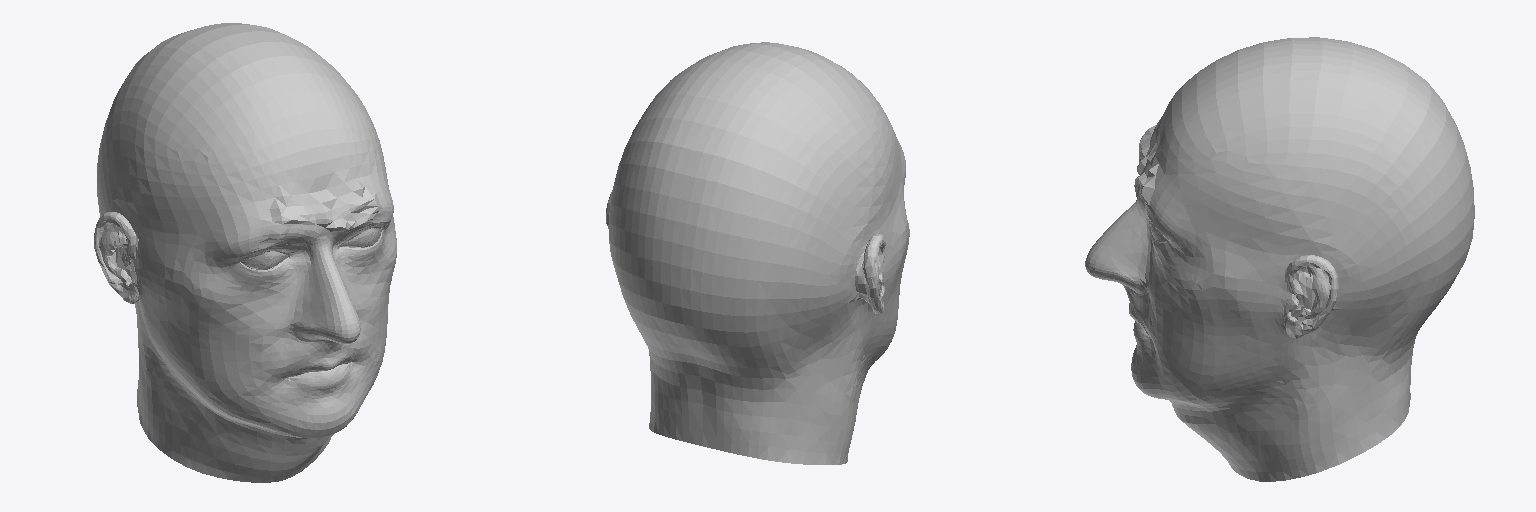
The model's file is MaleFaced6.obj.
The picture shows the model from 3 angles: view 1: azimuth 30°, elevation 25°; view 2: azimuth 150°, elevation 25°; view 3: azimuth 270°, elevation 25°; orthographic projection.
Visible parts, largest first — view 1: HeadHires; view 2: HeadHires; view 3: HeadHires.
Boxes of the visible parts, <box> form: HeadHires: <box>94,23,396,482</box>; HeadHires: <box>606,42,909,464</box>; HeadHires: <box>1085,37,1474,481</box>.
Bounding box in the file's own units: 194 × 283 × 242.